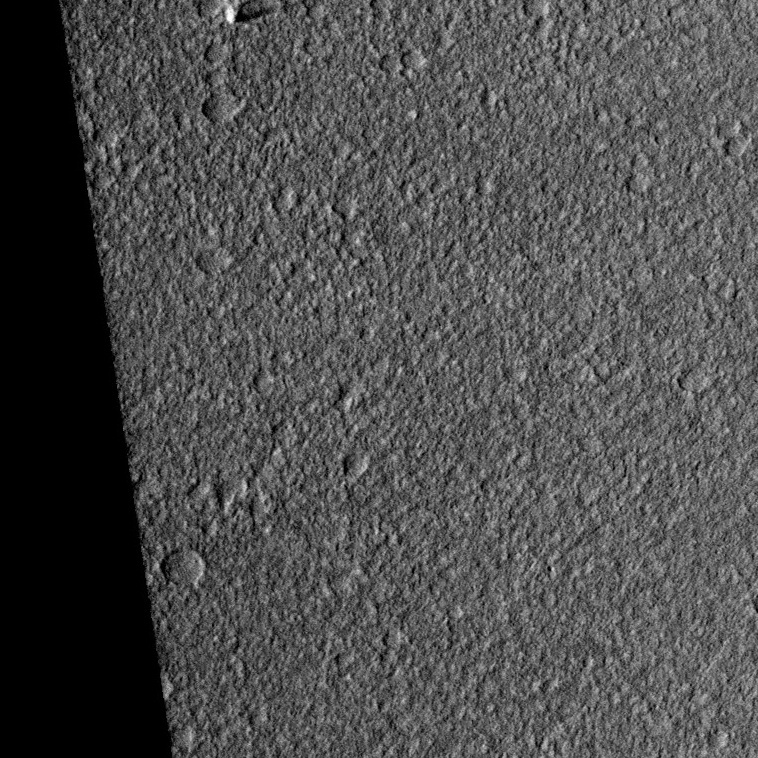dust_devil: (223, 1, 275, 26)
